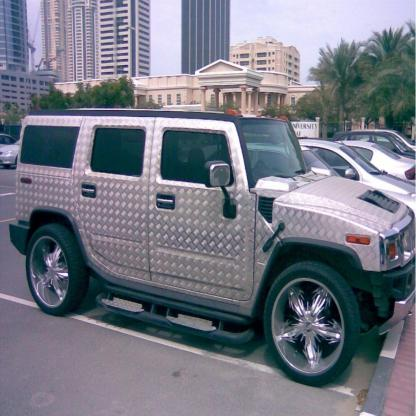Car: (0, 109, 415, 388)
